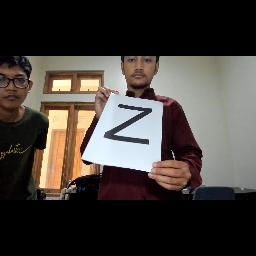z: (102, 99, 156, 147)
